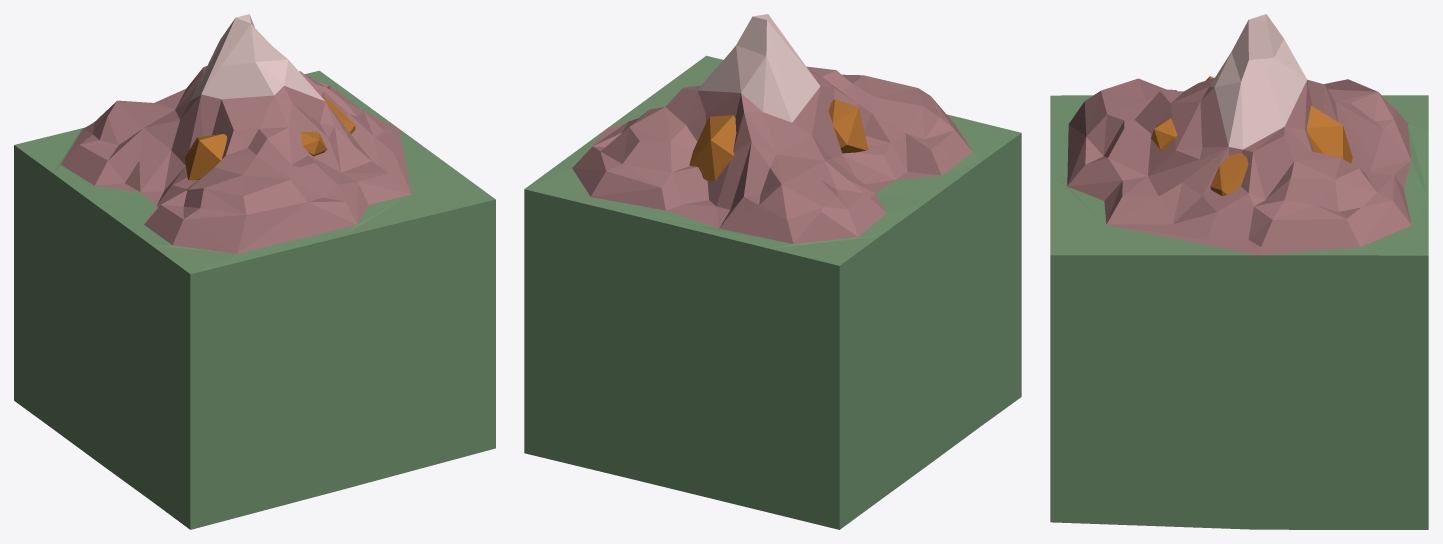
Rendered from Bronze_Mountain.fbx.
The picture shows the model from 3 angles, left to right: view 1: azimuth 30°, elevation 25°; view 2: azimuth 150°, elevation 25°; view 3: azimuth 270°, elevation 25°; orthographic projection. The views are drawn at different scales.
Parts seen in each view (by area): view 1: Bronze_Mountain; view 2: Bronze_Mountain; view 3: Bronze_Mountain.
Boxes of the visible parts, bbox=[...] form: Bronze_Mountain: bbox=[14, 14, 495, 529]; Bronze_Mountain: bbox=[524, 14, 1021, 529]; Bronze_Mountain: bbox=[1050, 14, 1428, 529].
Size of the model in its own units: 2000 by 2522 by 2000.
